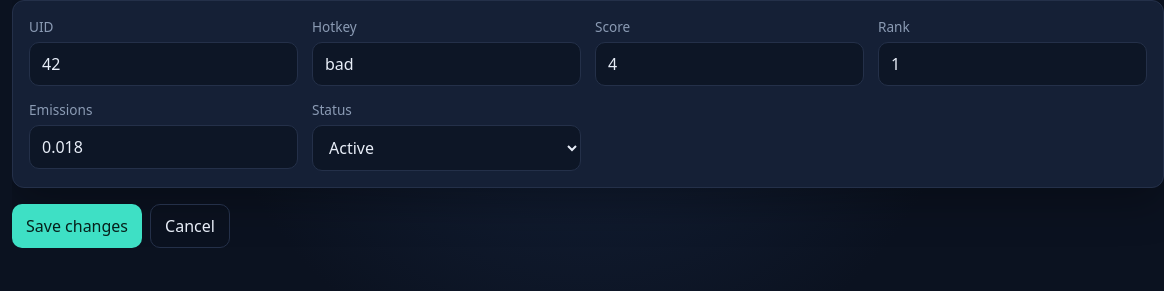
Test: Miner form validation › blocks submit when the hotkey and score are invalid
This screenshot has width=1164, height=291.
Click the button "Save changes" at (77,226), box [12,204,142,248]
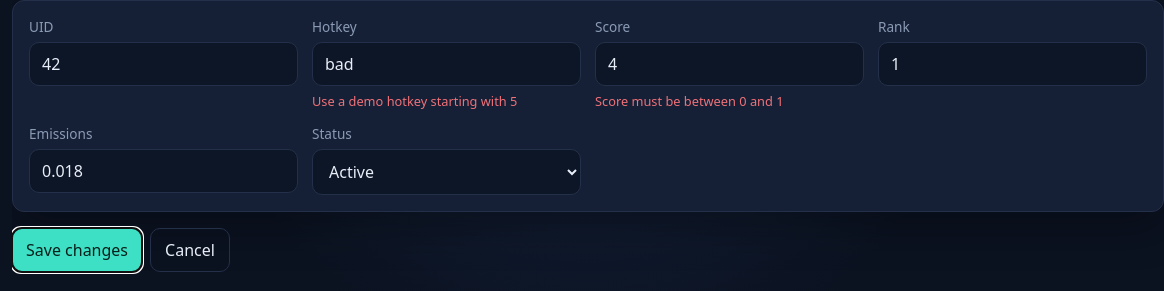
Expected: the text "Use a demo hotkey starting with 5" is shown, [312,92,517,110]
Expected: the text "Score must be between 0 and 1" is shown, [595,92,784,110]
